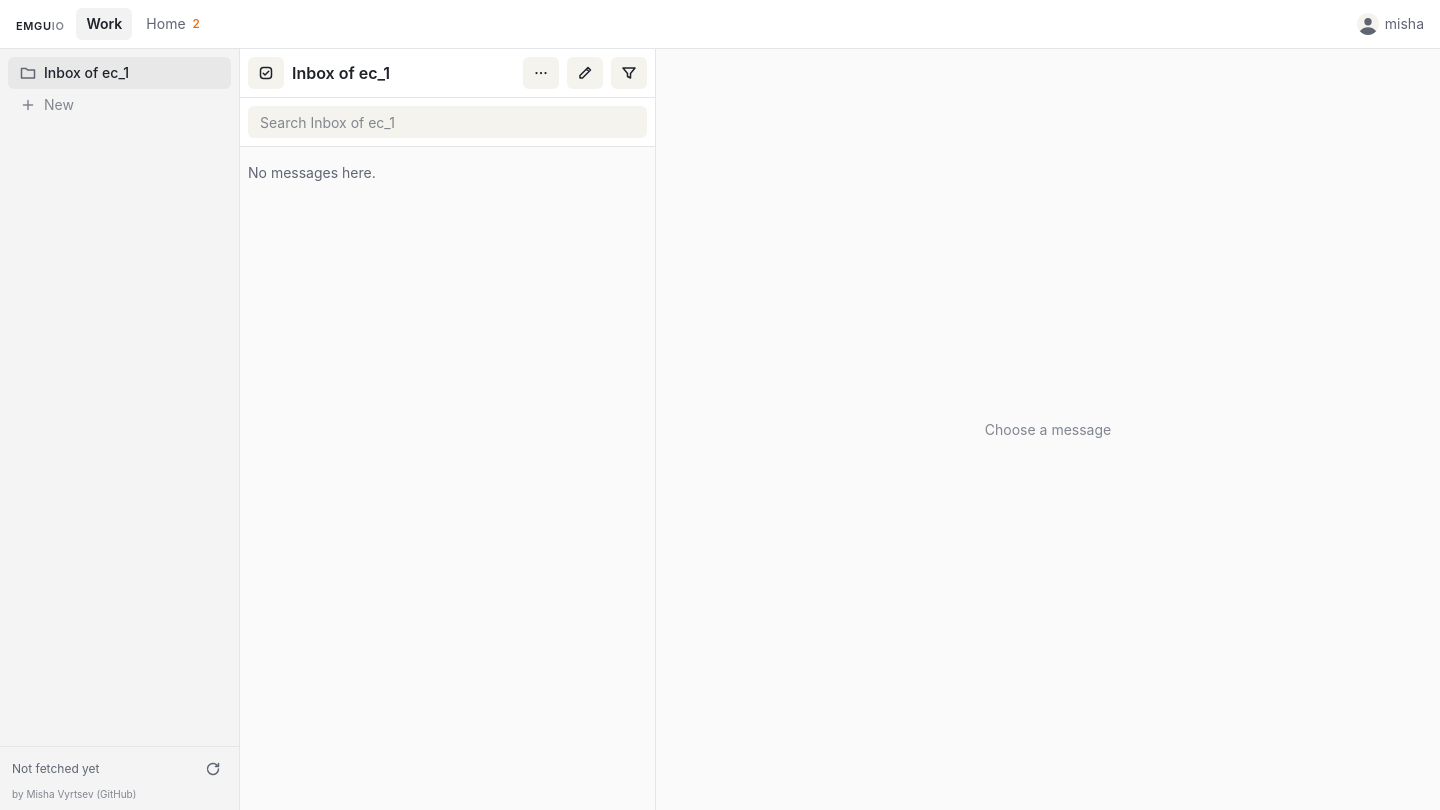
the application › puts the mail accounts side by side where they fit
The image size is (1440, 810).
Expected: the heading "Inbox of ec_1" is shown, [292,63,390,83]
Expected: the navigation bar named "Mail accounts" is shown, [76,8,210,40]
Click the link "Home 2": (194, 24) [146,15,241,32]
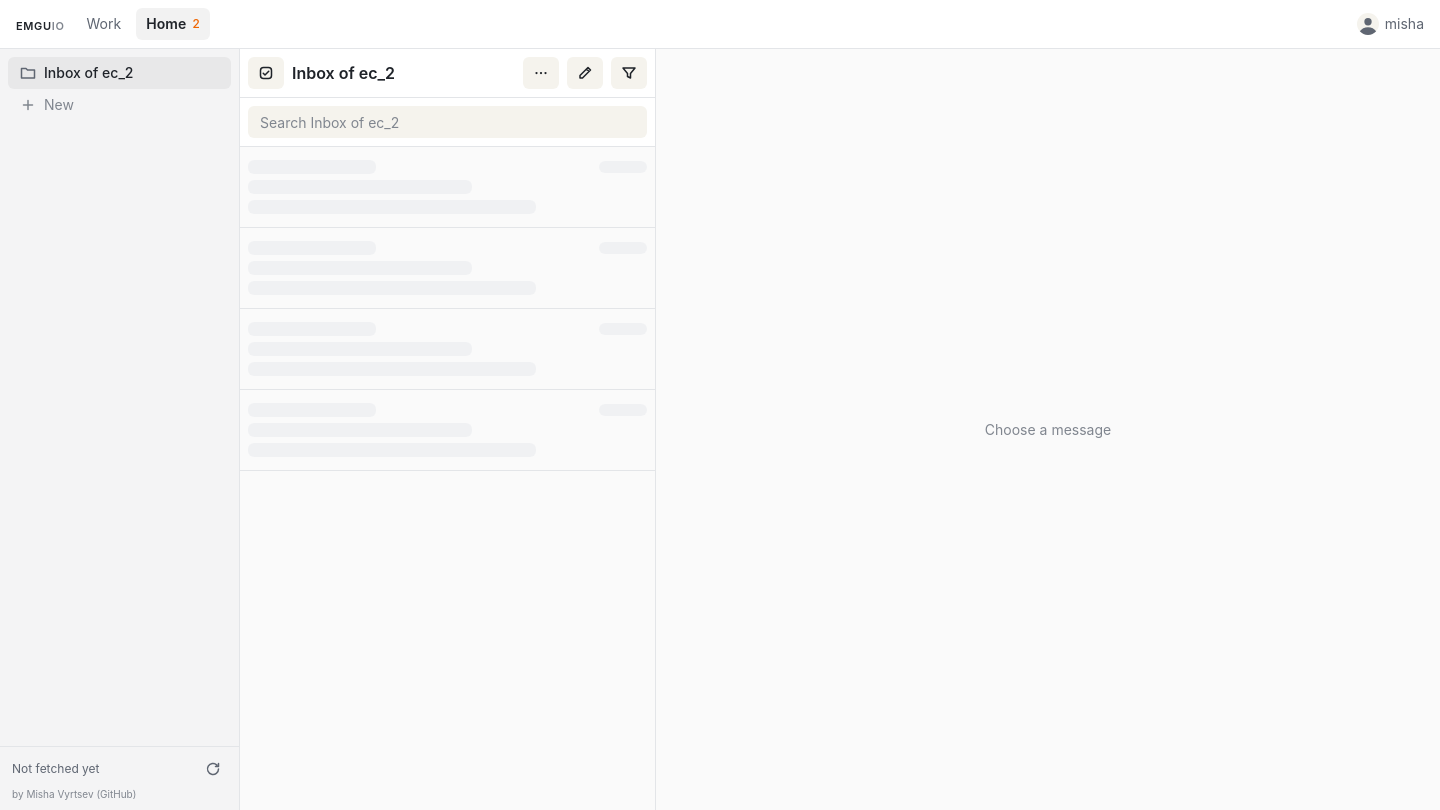
Expected: the heading "Inbox of ec_2" is shown, [292,63,395,83]
Click the button named "Mail account": (173, 24) [136,8,210,40]
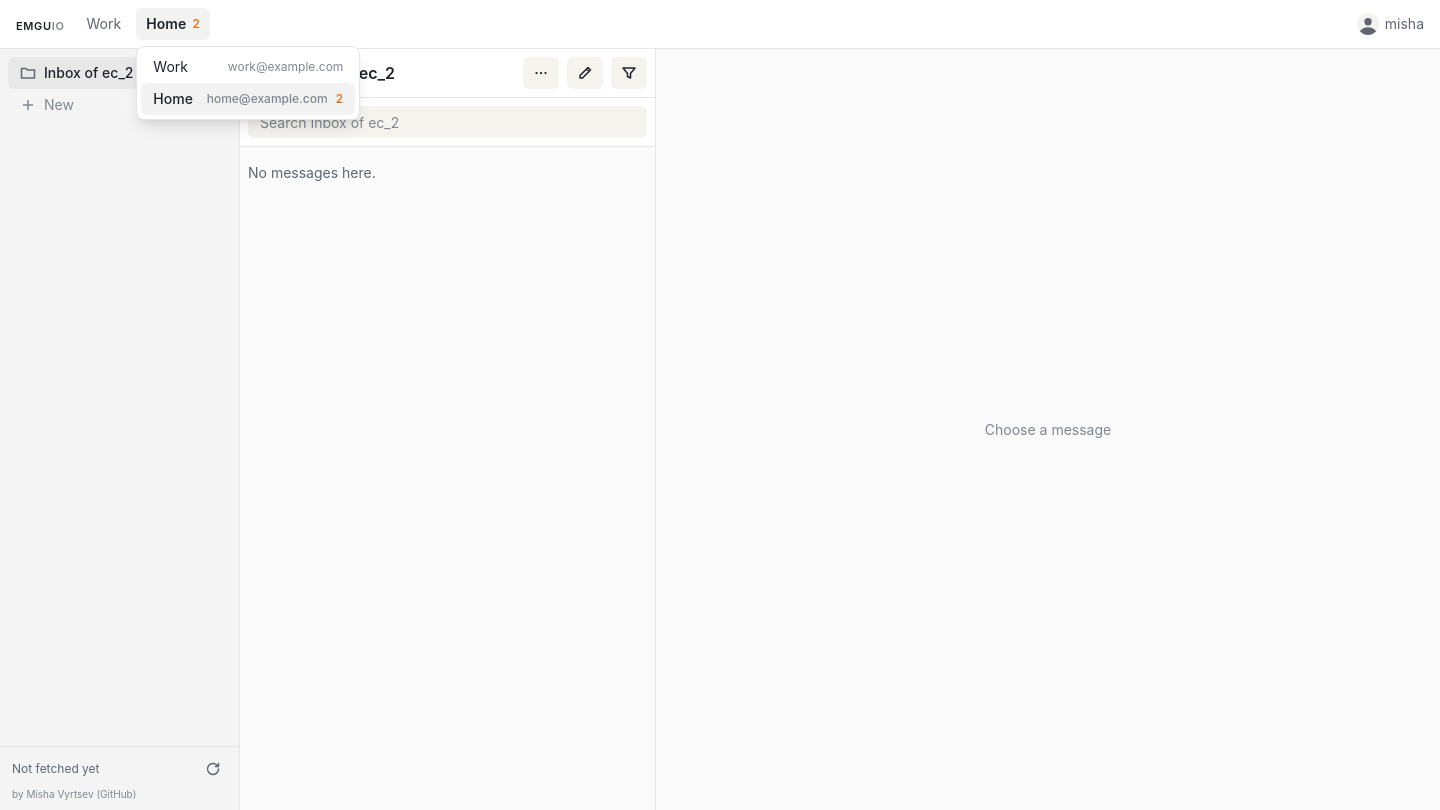
Expected: the menu items read "Workwork@example.com", "Homehome@example.com, unread: 2", in this order
Click the menu item "Work work@example.com": (248, 66) [153,58,343,75]
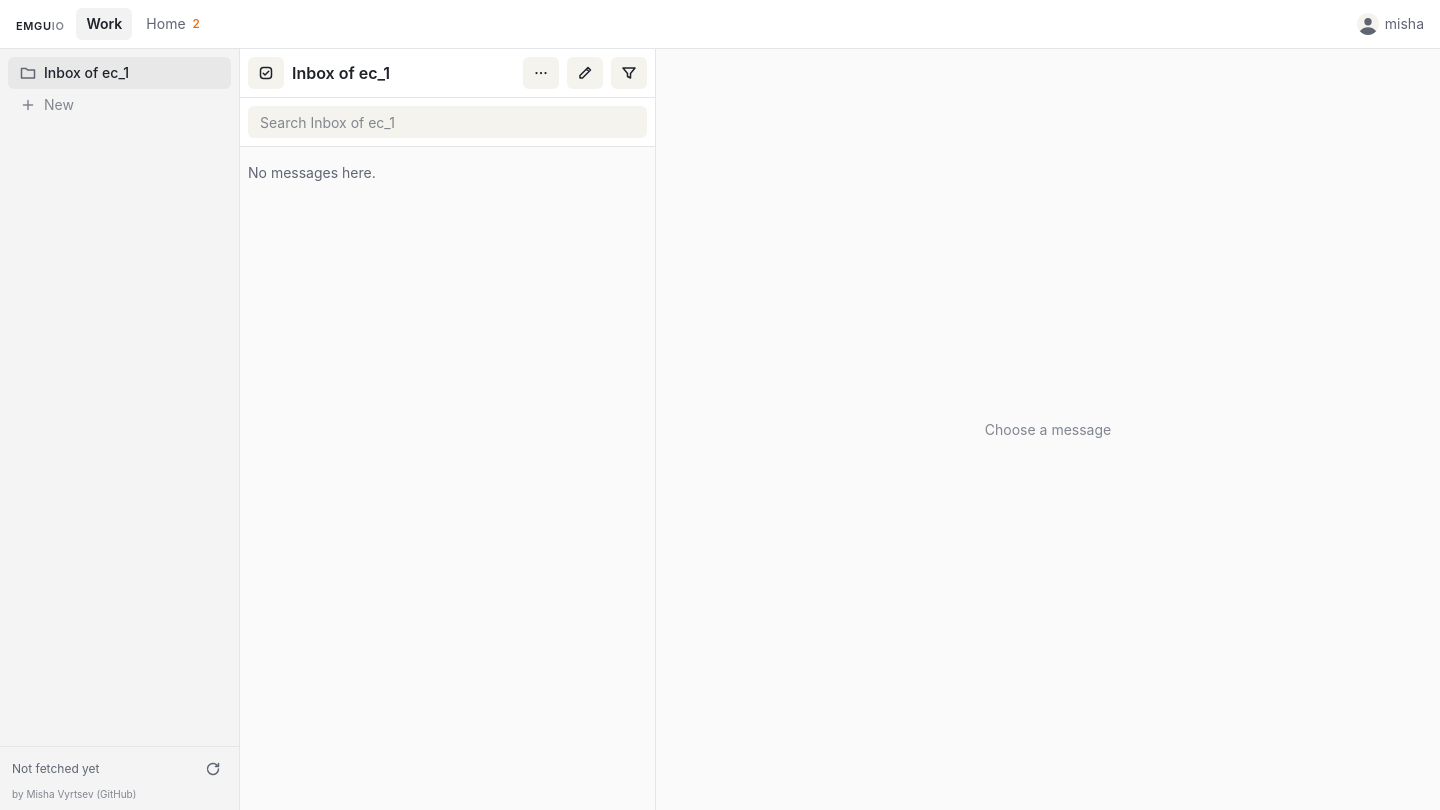
Expected: the heading "Inbox of ec_1" is shown, [292,63,390,83]
